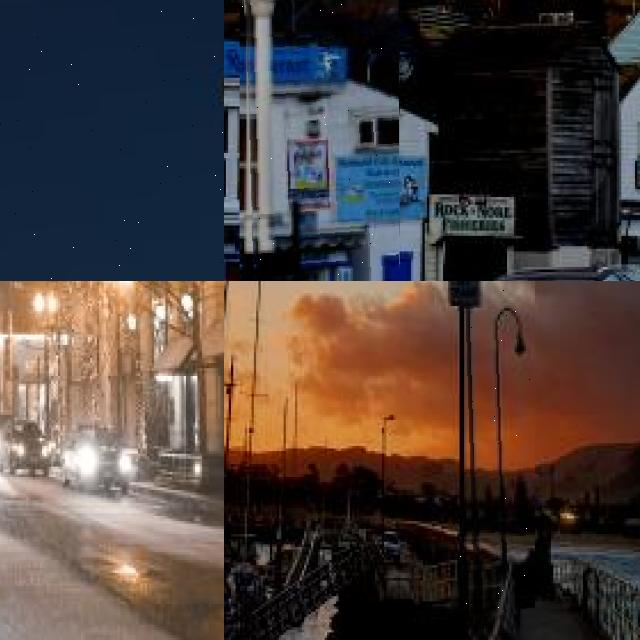street light: (0, 0, 224, 281), (239, 0, 399, 281), (459, 281, 535, 640), (489, 308, 518, 576), (103, 281, 131, 455), (35, 296, 58, 456), (382, 415, 394, 535)
